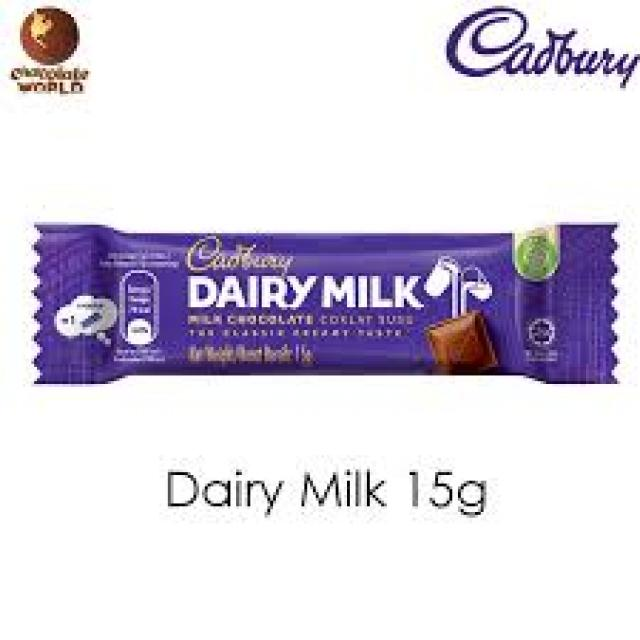cadbury: (29, 220, 616, 388)
